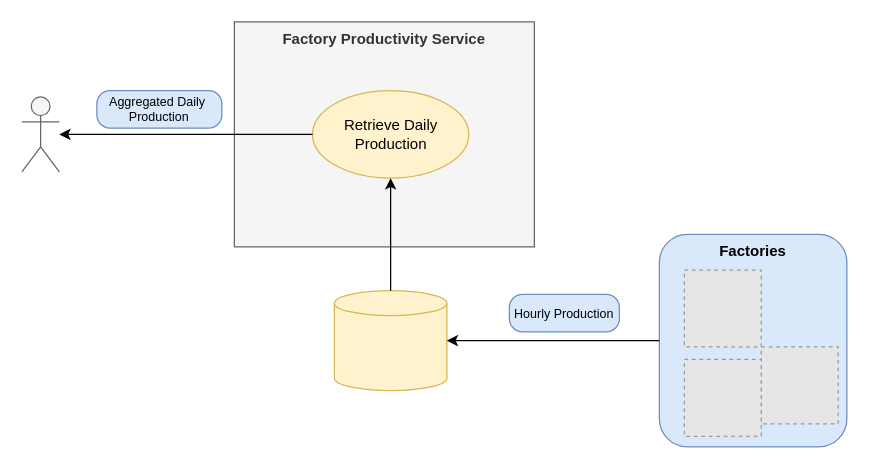
Image size: 869x469. Some labels were removed from this diagram. Grey dashed boxes stand in for pictures. The centre of each missing label's shape, as x and y in pixels:
Database: the point at 390,340
User: the point at 40,134
